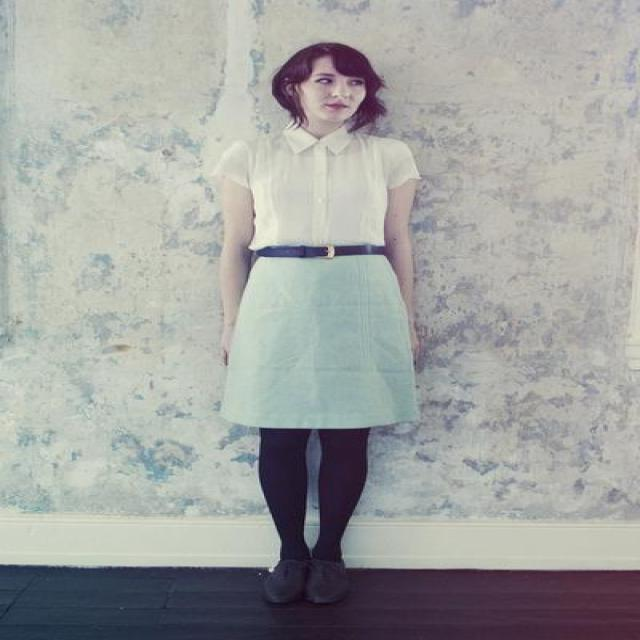shirt: (232, 123, 419, 250)
skirt: (220, 243, 426, 428)
